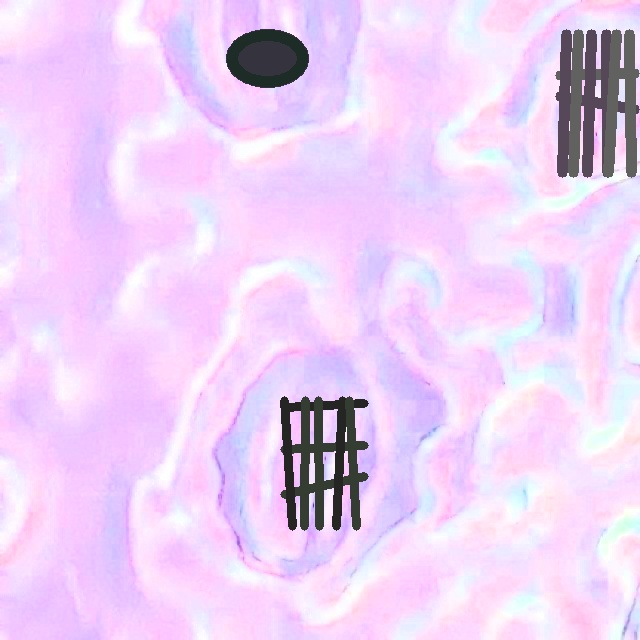open: (556, 29, 639, 177), (280, 397, 368, 530), (226, 29, 308, 87)
